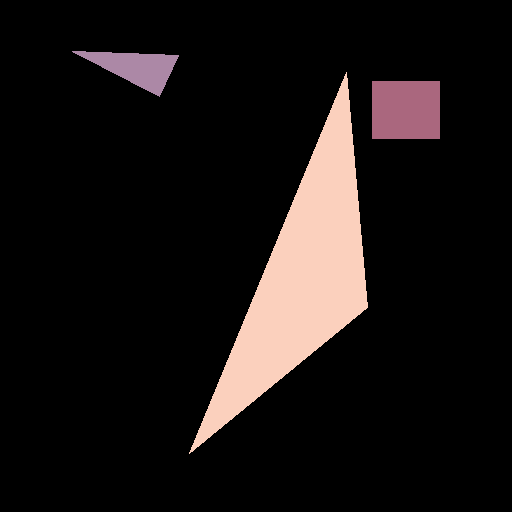rectangle: (372, 81, 439, 138)
triangle: (189, 72, 367, 453), (72, 51, 178, 96)
